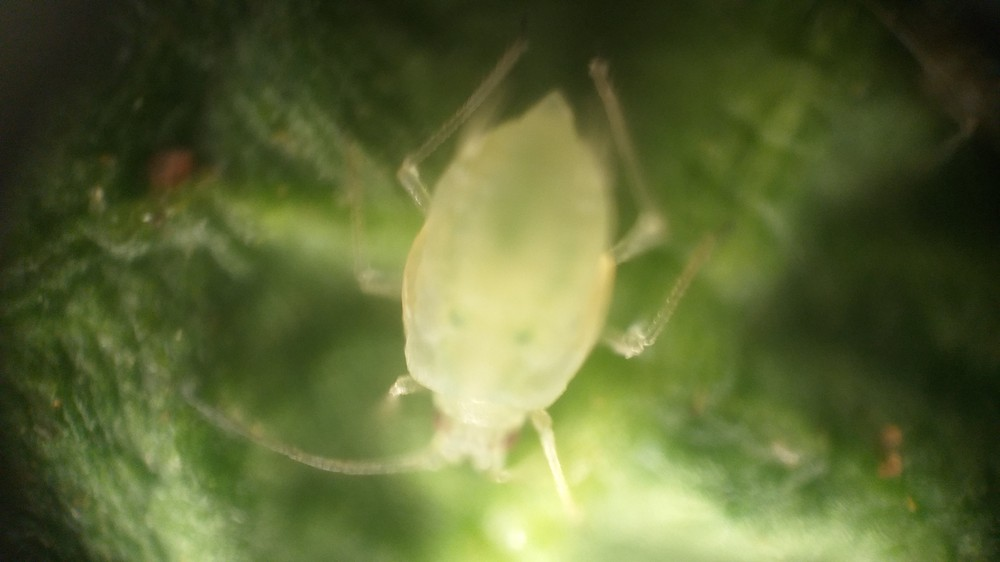Pulgon: (258, 22, 758, 554)
